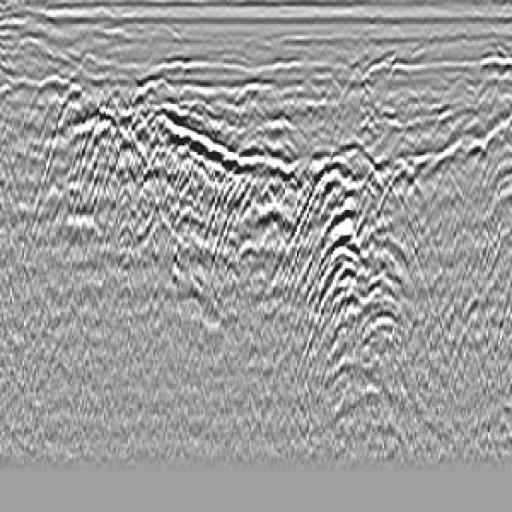metalic: (217, 97, 336, 307)
